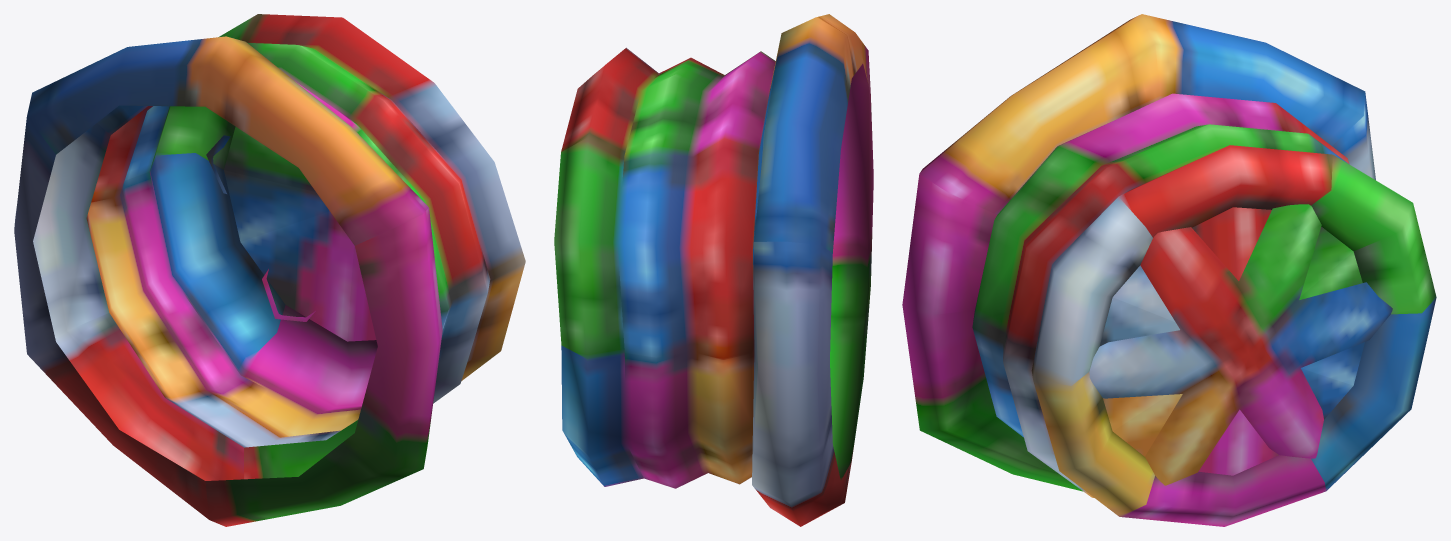
Rendered from cap_baloon.dae.
The picture shows the model from 3 angles, left to right: view 1: azimuth 30°, elevation 25°; view 2: azimuth 150°, elevation 25°; view 3: azimuth 270°, elevation 25°; orthographic projection. The views are drawn at different scales.
Visible parts, largest first — view 1: cap_baloon; view 2: cap_baloon; view 3: cap_baloon.
Part boxes in pixels (x1,y1,x2,y2): cap_baloon: (14,14,525,526); cap_baloon: (554,14,873,526); cap_baloon: (902,14,1436,526).
Size of the model in its own units: 21.53 by 27.7 by 27.26.
Materials: 1 (1 with a texture image).
